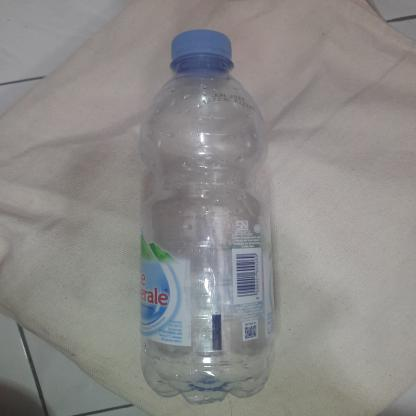plastic: (133, 27, 282, 409)
